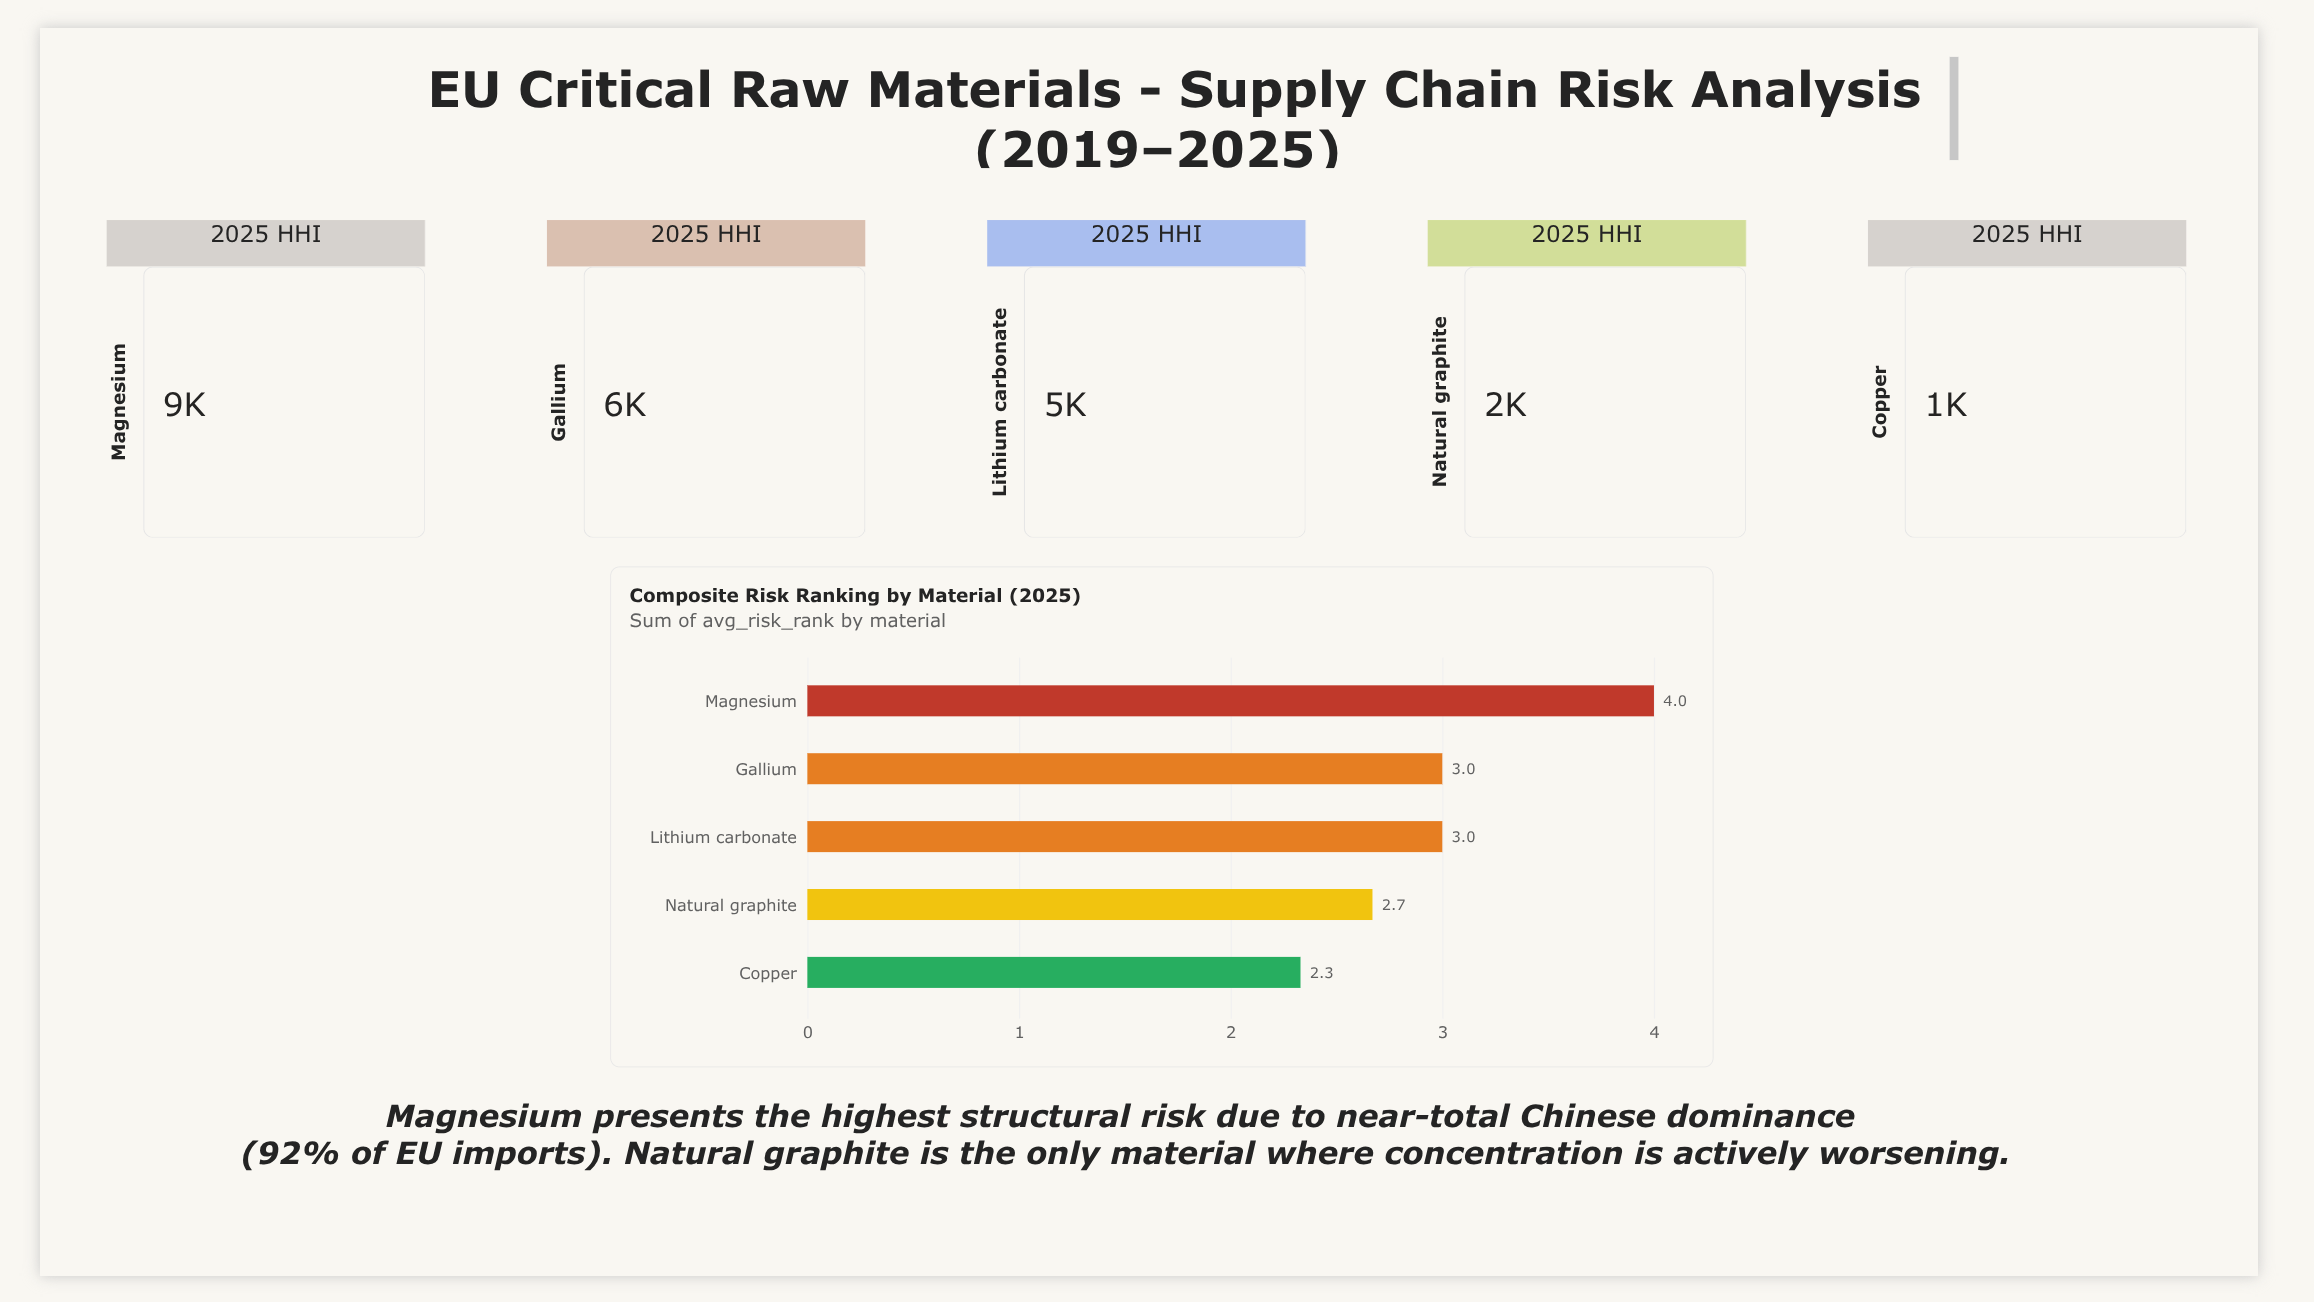

This screenshot's page, from the dashboard's own definition file:
{"tool":"powerbi","page":{"name":"Page 1","canvas":[1920,1080],"ordinal":0},"visuals":[{"type":"textbox","box":[282,0,1100,200],"z":0},{"type":"cardVisual","title":"2025 HHI","fields":{"Data":["Sum(hhi_by_year_202611112127.hhi)"],"Rows":["hhi_by_year_202611112127.material"]},"box":[57.5,166.7,276,276],"z":1000},{"type":"cardVisual","title":"2025 HHI","fields":{"Data":["Sum(hhi_by_year_202611112127.hhi)"],"Rows":["hhi_by_year_202611112127.material"]},"box":[438.8,166.7,276,276],"z":2000},{"type":"cardVisual","title":"2025 HHI","fields":{"Data":["Sum(hhi_by_year_202611112127.hhi)"],"Rows":["hhi_by_year_202611112127.material"]},"box":[820,166.7,276,276],"z":3000},{"type":"cardVisual","title":"2025 HHI","fields":{"Data":["Sum(hhi_by_year_202611112127.hhi)"],"Rows":["hhi_by_year_202611112127.material"]},"box":[1201.2,166.7,276,276],"z":4000},{"type":"cardVisual","title":"2025 HHI","fields":{"Data":["Sum(hhi_by_year_202611112127.hhi)"],"Rows":["hhi_by_year_202611112127.material"]},"box":[1582.5,166.7,276,276],"z":5000},{"type":"clusteredBarChart","title":"Composite Risk Ranking by Material (2025)","fields":{"Category":["risk_ranking.material"],"Y":["Sum(risk_ranking.avg_risk_rank)"]},"box":[580,486.7,804,350],"z":6000},{"type":"textbox","box":[438.3,865.8,1144.2,200],"z":8000}]}

Visuals, with their boxes in screenshot pixels (x1, y1, x2, y2), scaled from the page's 1920x1080 canvas onto the 2314x1302 screenshot:
textbox: [340,0,1666,241]
"2025 HHI" cardVisual: [69,201,402,534]
"2025 HHI" cardVisual: [529,201,861,534]
"2025 HHI" cardVisual: [988,201,1321,534]
"2025 HHI" cardVisual: [1448,201,1780,534]
"2025 HHI" cardVisual: [1907,201,2240,534]
"Composite Risk Ranking by Material (2025)" clusteredBarChart: [699,587,1668,1009]
textbox: [528,1044,1907,1285]
